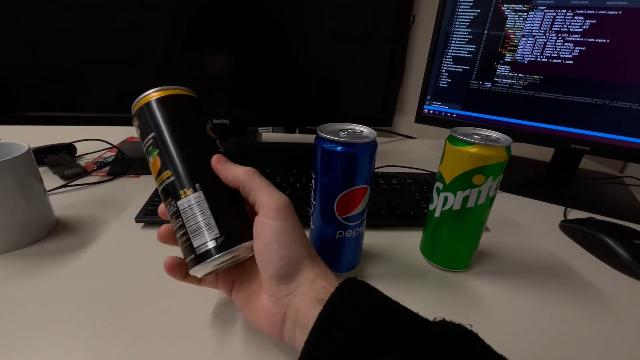OranSoda: (130, 83, 258, 281)
Pepsi: (306, 121, 379, 277)
Sprite: (420, 125, 514, 273)
